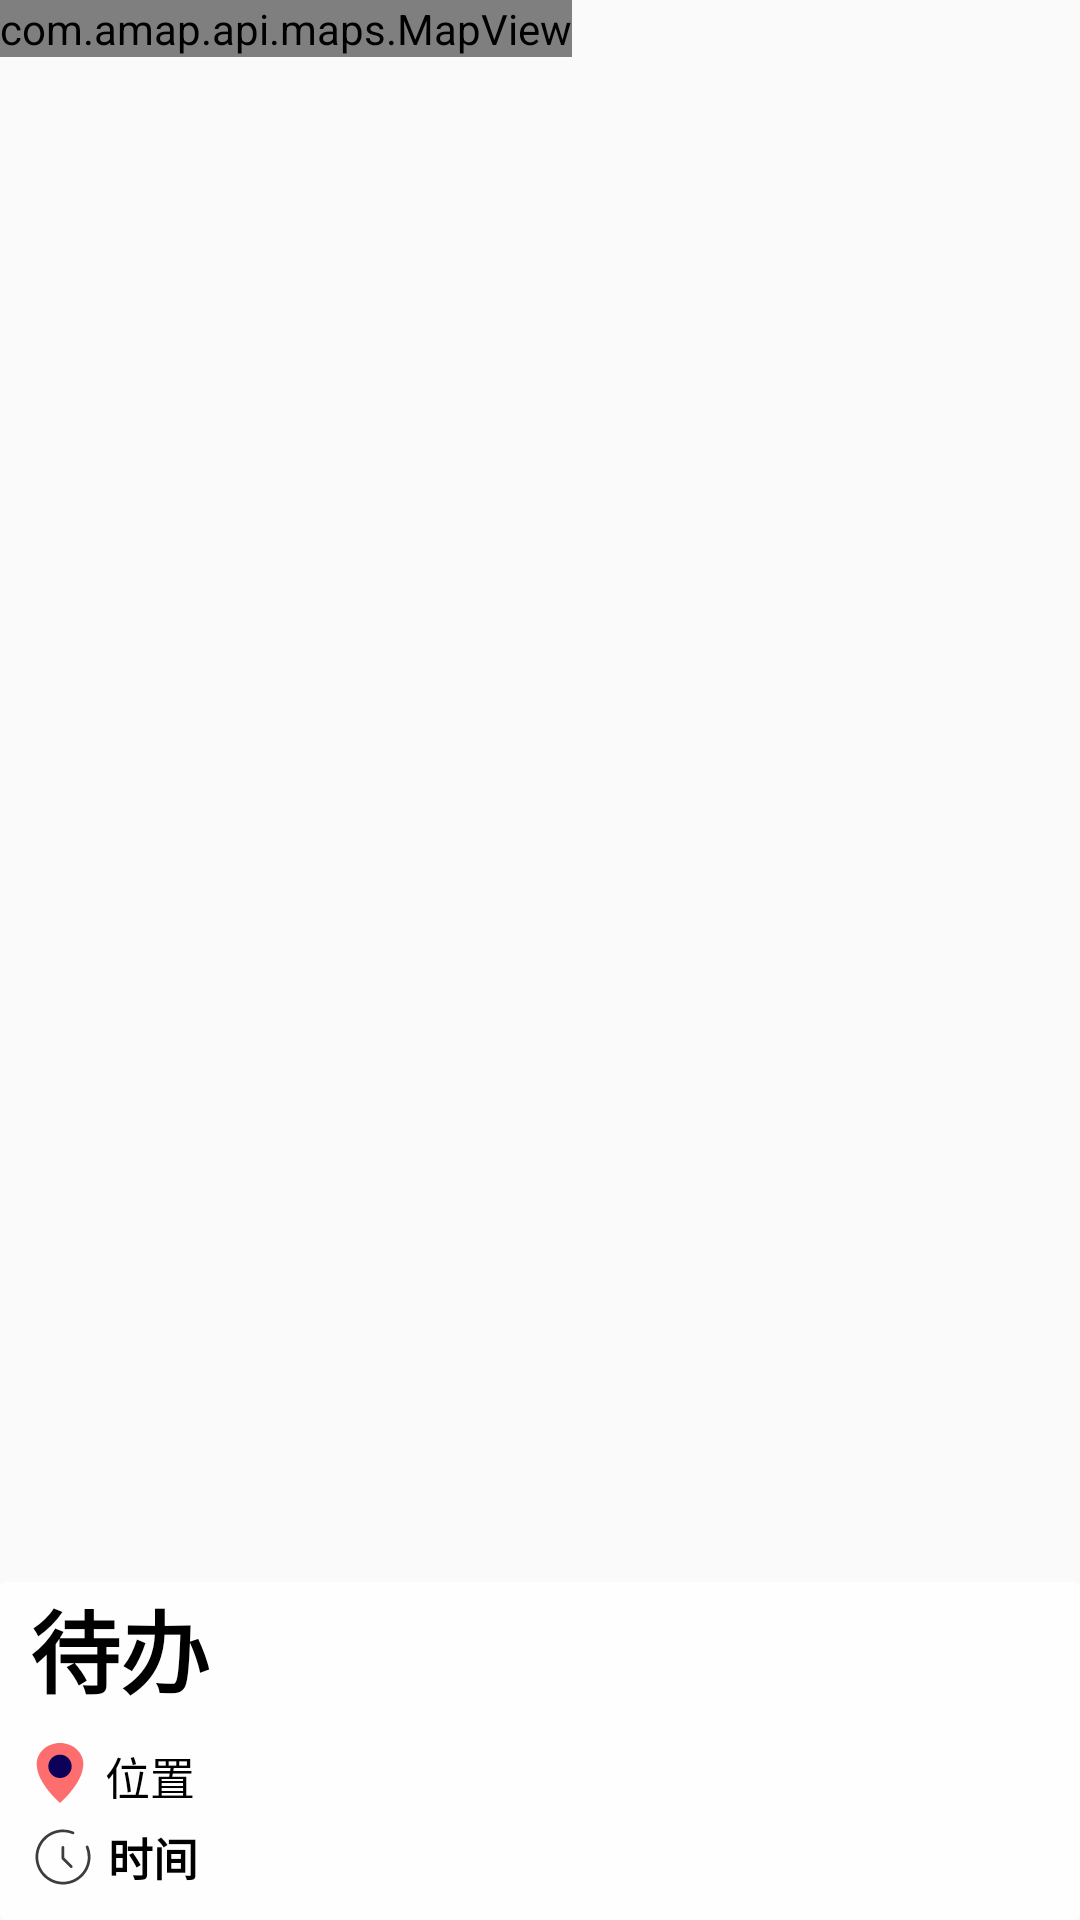

Icon click points for this 1080w x 1920h phone screenshot, format (x=x, y=y):
map marker: (x=60, y=1773)
start time: (x=63, y=1857)
